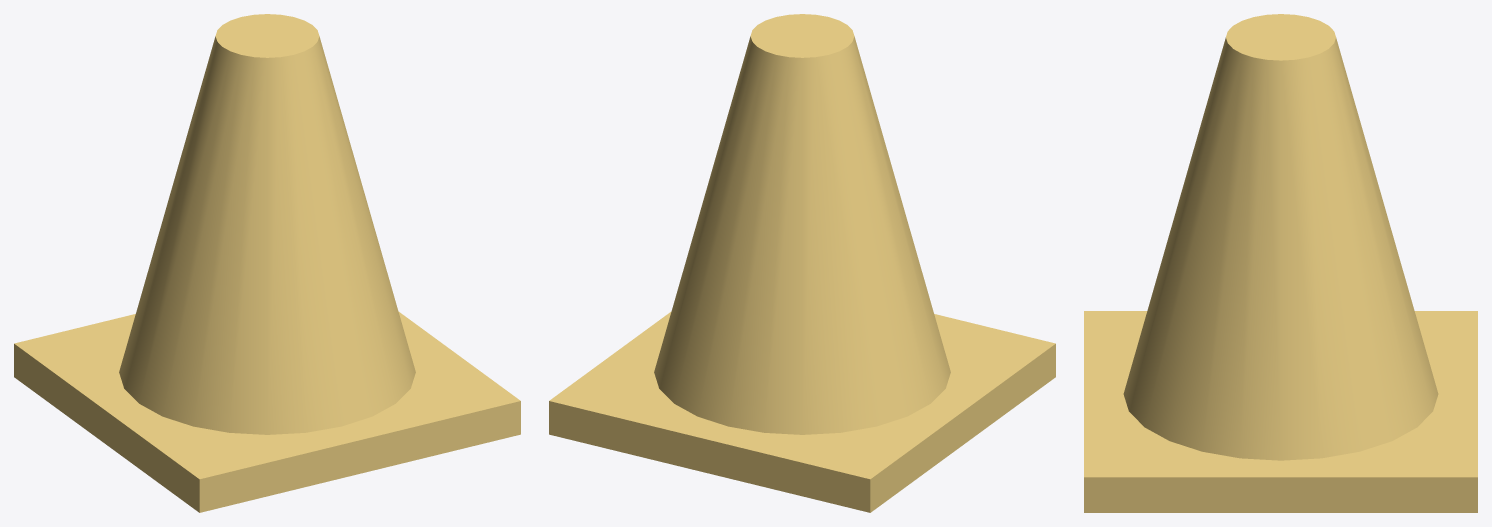
File: pylon.glb
The picture shows the model from 3 angles, left to right: view 1: azimuth 30°, elevation 25°; view 2: azimuth 150°, elevation 25°; view 3: azimuth 270°, elevation 25°; orthographic projection. The views are drawn at different scales.
Visible parts, largest first — view 1: pylon(Clone); view 2: pylon(Clone); view 3: pylon(Clone).
Boxes of the visible parts, x1=… form: pylon(Clone): x1=14, y1=14, x2=520, y2=512; pylon(Clone): x1=549, y1=14, x2=1055, y2=512; pylon(Clone): x1=1084, y1=14, x2=1477, y2=512.
Bounding box in the file's own units: 0.12 × 0.132 × 0.12.
1 material, 1 textured.
